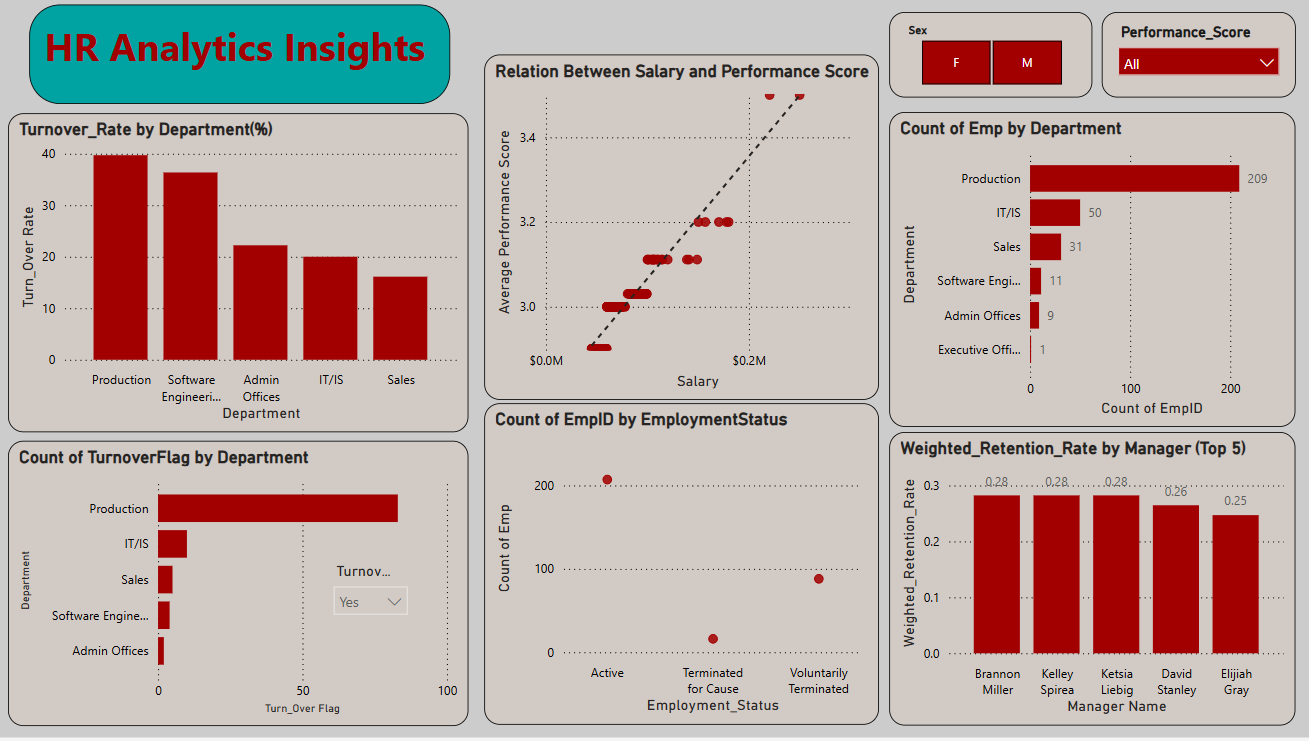

The dashboard page shown, as its layout file describes it:
{"tool":"powerbi","page":{"name":"Page 1","canvas":[1280,720],"ordinal":0},"visuals":[{"type":"barChart","title":"Count of  Emp by Department","fields":{"Category":["HR data.Department"],"Y":["CountNonNull(HR data.EmpID)"]},"box":[867.5,111.7,395.1,306.8],"z":0},{"type":"slicer","fields":{"Values":["HR data.PerformanceScore"]},"box":[1073.6,14.7,189,83.4],"z":1000},{"type":"slicer","fields":{"Values":["HR data.Sex"]},"box":[867.5,14.7,197.5,83.4],"z":2000},{"type":"scatterChart","title":"Relation Between Salary and Performance Score","fields":{"Y":["Avg(HR data.AvgPerfScoreBySalary)"],"X":["HR data.Salary"]},"box":[473.6,56.4,384.1,336.2],"z":3000},{"type":"columnChart","title":"Turnover_Rate by Department(%)","fields":{"Category":["HR data.Department"],"Y":["HR data.TurnoverRate"]},"box":[9.8,112.9,447.9,310.4],"z":4000},{"type":"barChart","fields":{"Category":["HR data.Department"],"Y":["CountNonNull(HR data.TurnoverFlag)"]},"box":[9.8,431.9,447.9,277.3],"z":4000,"group":"g1"},{"type":"scatterChart","fields":{"Y":["CountNonNull(HR data.EmpID)"],"X":["HR data.EmploymentStatus"]},"box":[473.6,395.1,384.1,312.9],"z":5000},{"type":"slicer","fields":{"Values":["HR data.TurnoverFlag"]},"box":[316.5,545.1,92,82.3],"z":5000,"group":"g1"},{"type":"columnChart","title":"Weighted_Retention_Rate by Manager (Top 5)","fields":{"Y":["HR data.WeightedRetentionRate"],"Category":["HR data.ManagerName"]},"box":[867.5,423.3,395.1,285.9],"z":6000},{"type":"textbox","box":[30.7,7.4,409.8,96.9],"z":7000},{"type":"group","id":"g1","title":"Group 1","box":[9.8,431.9,447.9,277.3],"z":8000}]}

Visuals, with their boxes in screenshot pixels (x1, y1, x2, y2), scaled from the page's 1280x720 canvas onto the 1309x741 screenshot:
"Count of  Emp by Department" barChart: l=887, t=115, r=1291, b=431
slicer - HR data.PerformanceScore: l=1098, t=15, r=1291, b=101
slicer - HR data.Sex: l=887, t=15, r=1089, b=101
"Relation Between Salary and Performance Score" scatterChart: l=484, t=58, r=877, b=404
"Turnover_Rate by Department(%)" columnChart: l=10, t=116, r=468, b=436
barChart - HR data.Department x CountNonNull(HR data.TurnoverFlag): l=10, t=444, r=468, b=730
scatterChart - CountNonNull(HR data.EmpID) x HR data.EmploymentStatus: l=484, t=407, r=877, b=729
slicer - HR data.TurnoverFlag: l=324, t=561, r=418, b=646
"Weighted_Retention_Rate by Manager (Top 5)" columnChart: l=887, t=436, r=1291, b=730
textbox: l=31, t=8, r=450, b=107
"Group 1" group: l=10, t=444, r=468, b=730
